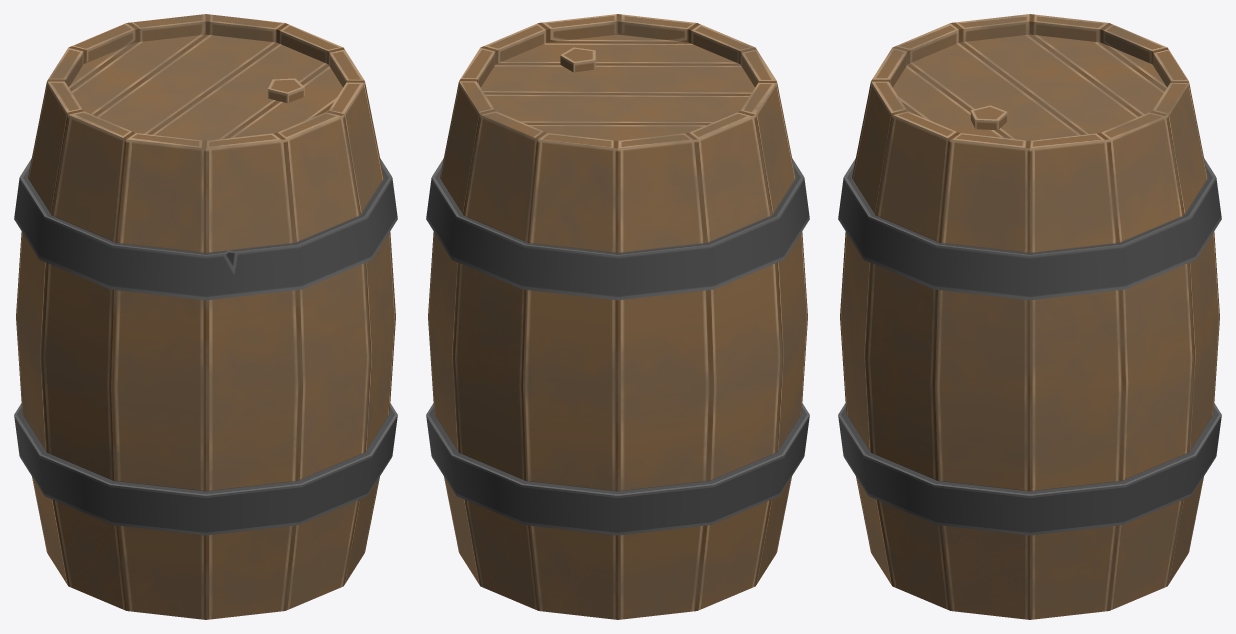
The model's file is Barrel.fbx.
3 renders of one model, left to right at view 1: azimuth 30°, elevation 25°; view 2: azimuth 150°, elevation 25°; view 3: azimuth 270°, elevation 25°, orthographic.
Parts seen in each view (by area): view 1: Barrel; view 2: Barrel; view 3: Barrel.
Boxes of the visible parts, <box> form: Barrel: <box>14,14,397,619</box>; Barrel: <box>426,14,809,619</box>; Barrel: <box>838,14,1221,619</box>.
Bounding box in the file's own units: 66.39 × 90 × 66.39.
